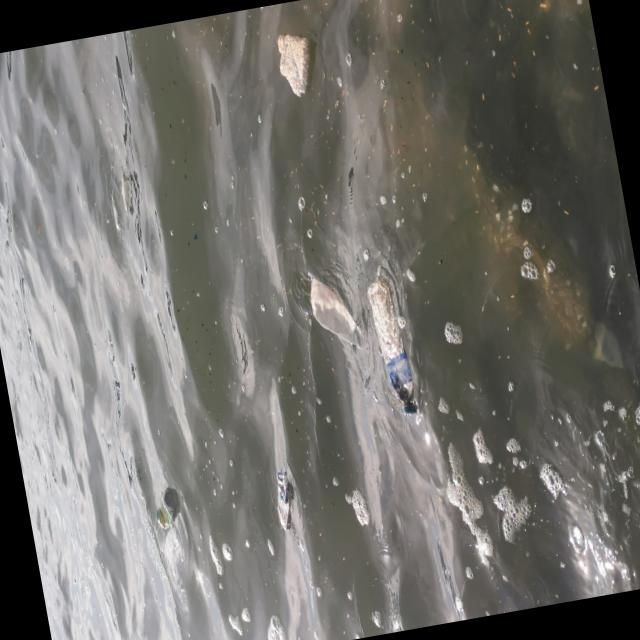can: (148, 486, 184, 532)
foam: (274, 28, 321, 98)
plastic: (364, 265, 422, 418)
unknow: (295, 258, 363, 353), (267, 468, 298, 531)
